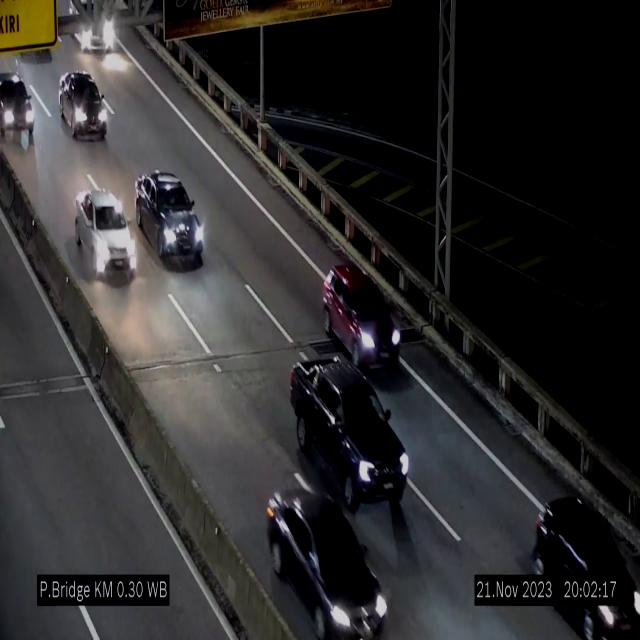Car: (266, 488, 391, 638), (292, 348, 408, 506), (528, 476, 638, 640), (320, 265, 408, 378), (68, 178, 138, 290), (136, 170, 204, 260), (59, 65, 118, 137), (0, 66, 36, 154)
